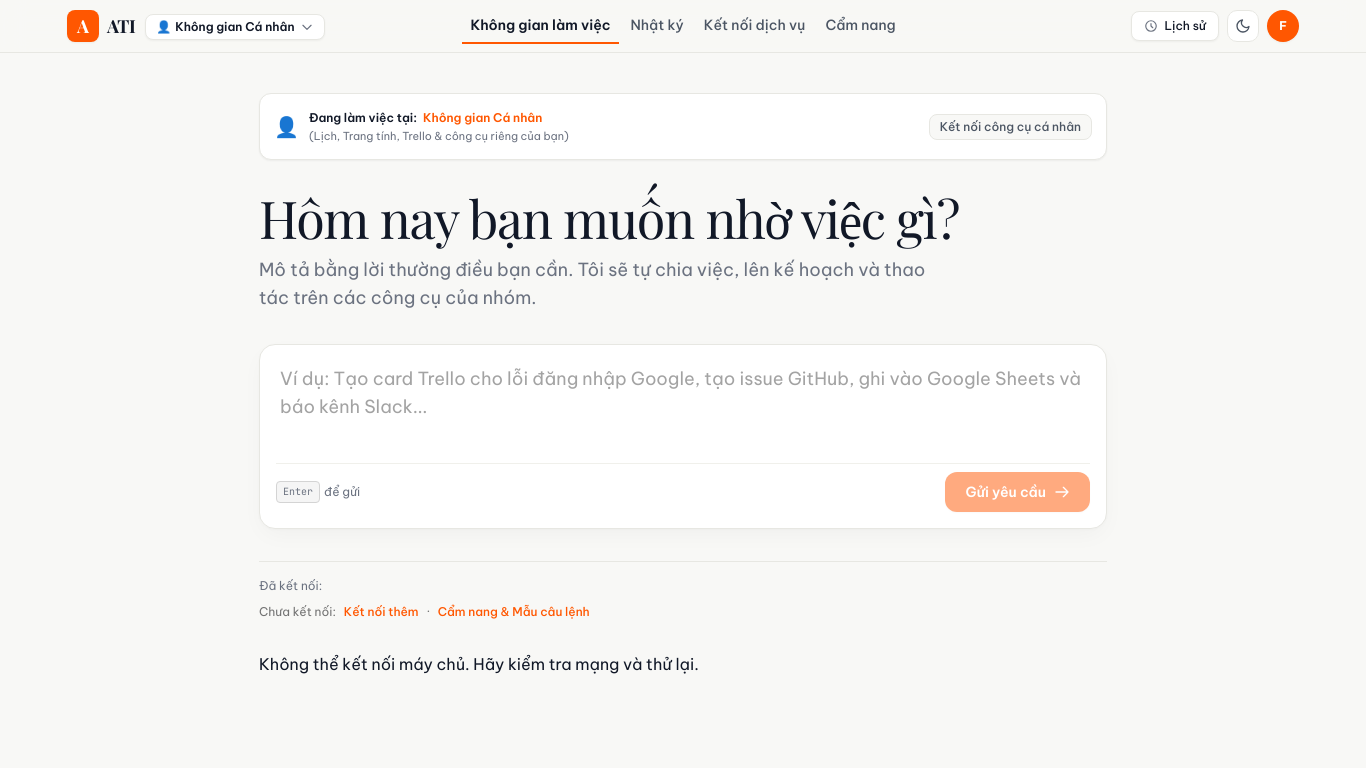
history pending plan alongside SSE snapshot connection › keeps the pending preview when SSE snapshot finishes first
Click the button with aria-label "Mở danh sách hội thoại" at (1175,26), box [1131, 11, 1219, 41]
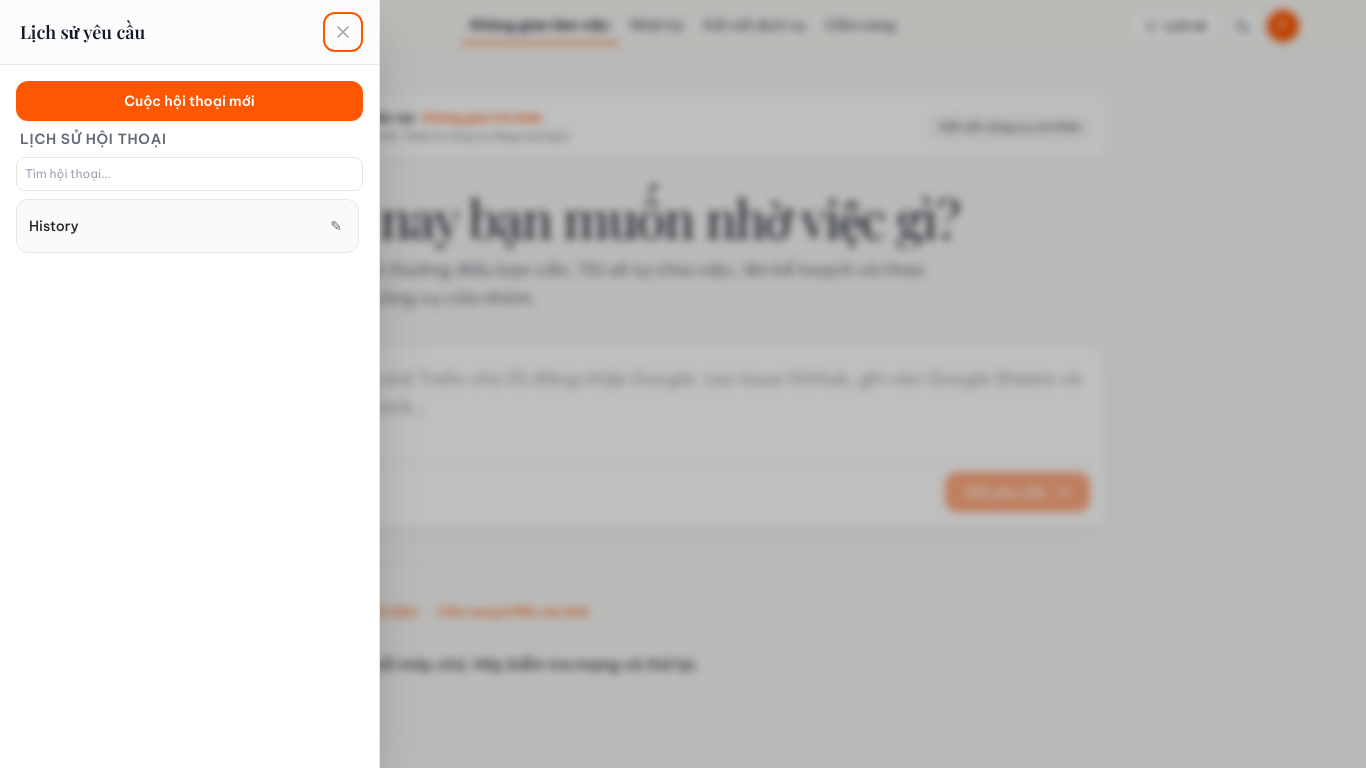
Click the button "History" at (54,226), box [29, 212, 322, 236]
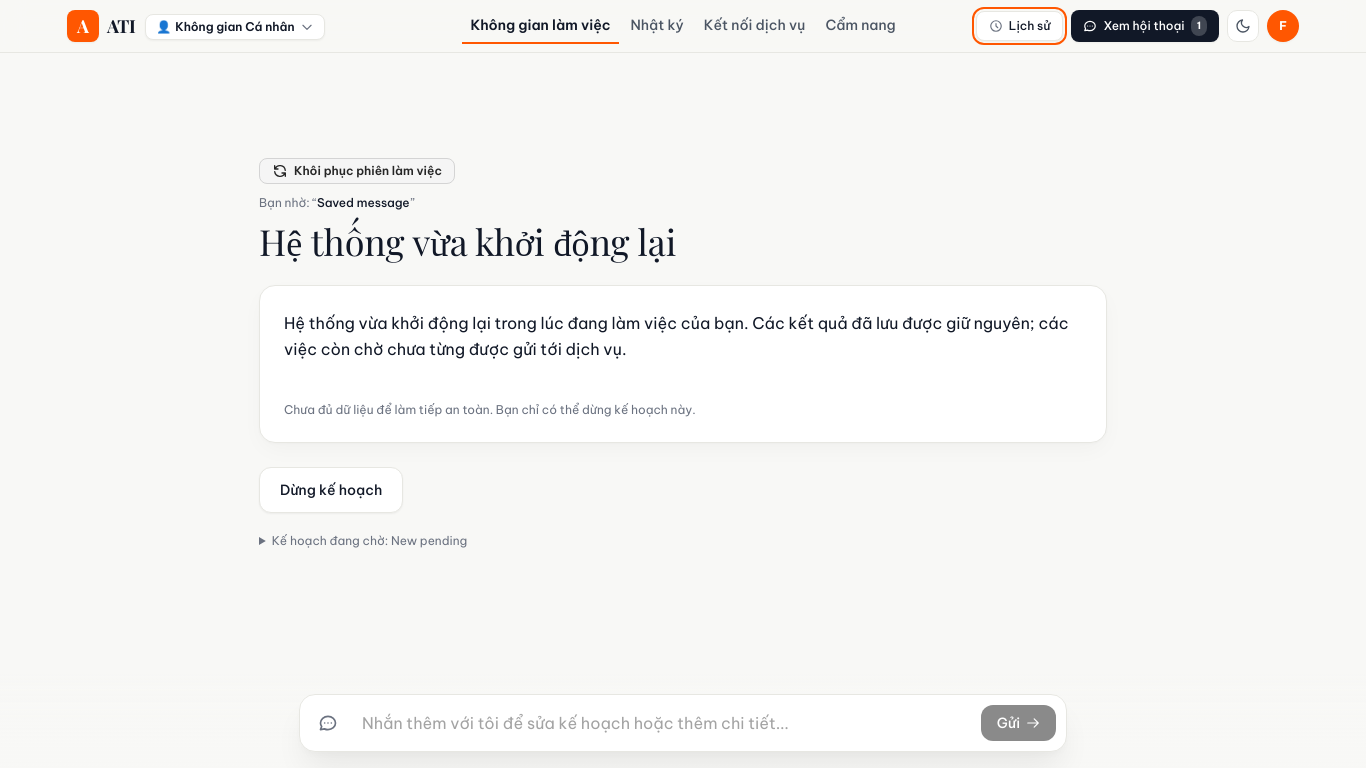
Now the text "New pending" is shown, box [391, 533, 467, 548]
